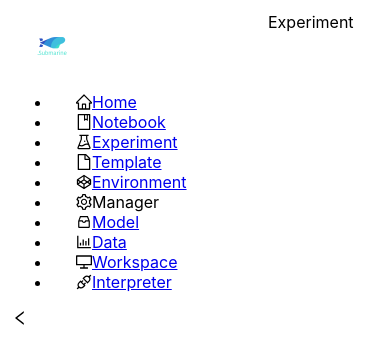
Router test › Notebook page router
Click the link with test id "notebook-link" at {"x": 129, "y": 122}, box [92,112,166,132]
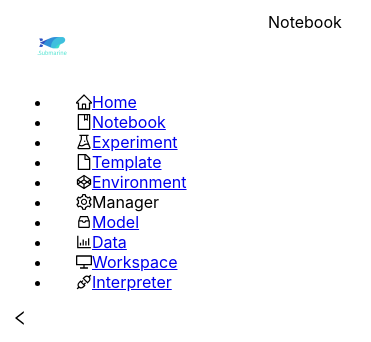
Result: the element with test id "notebook-page" is shown at [268,12,342,32]
